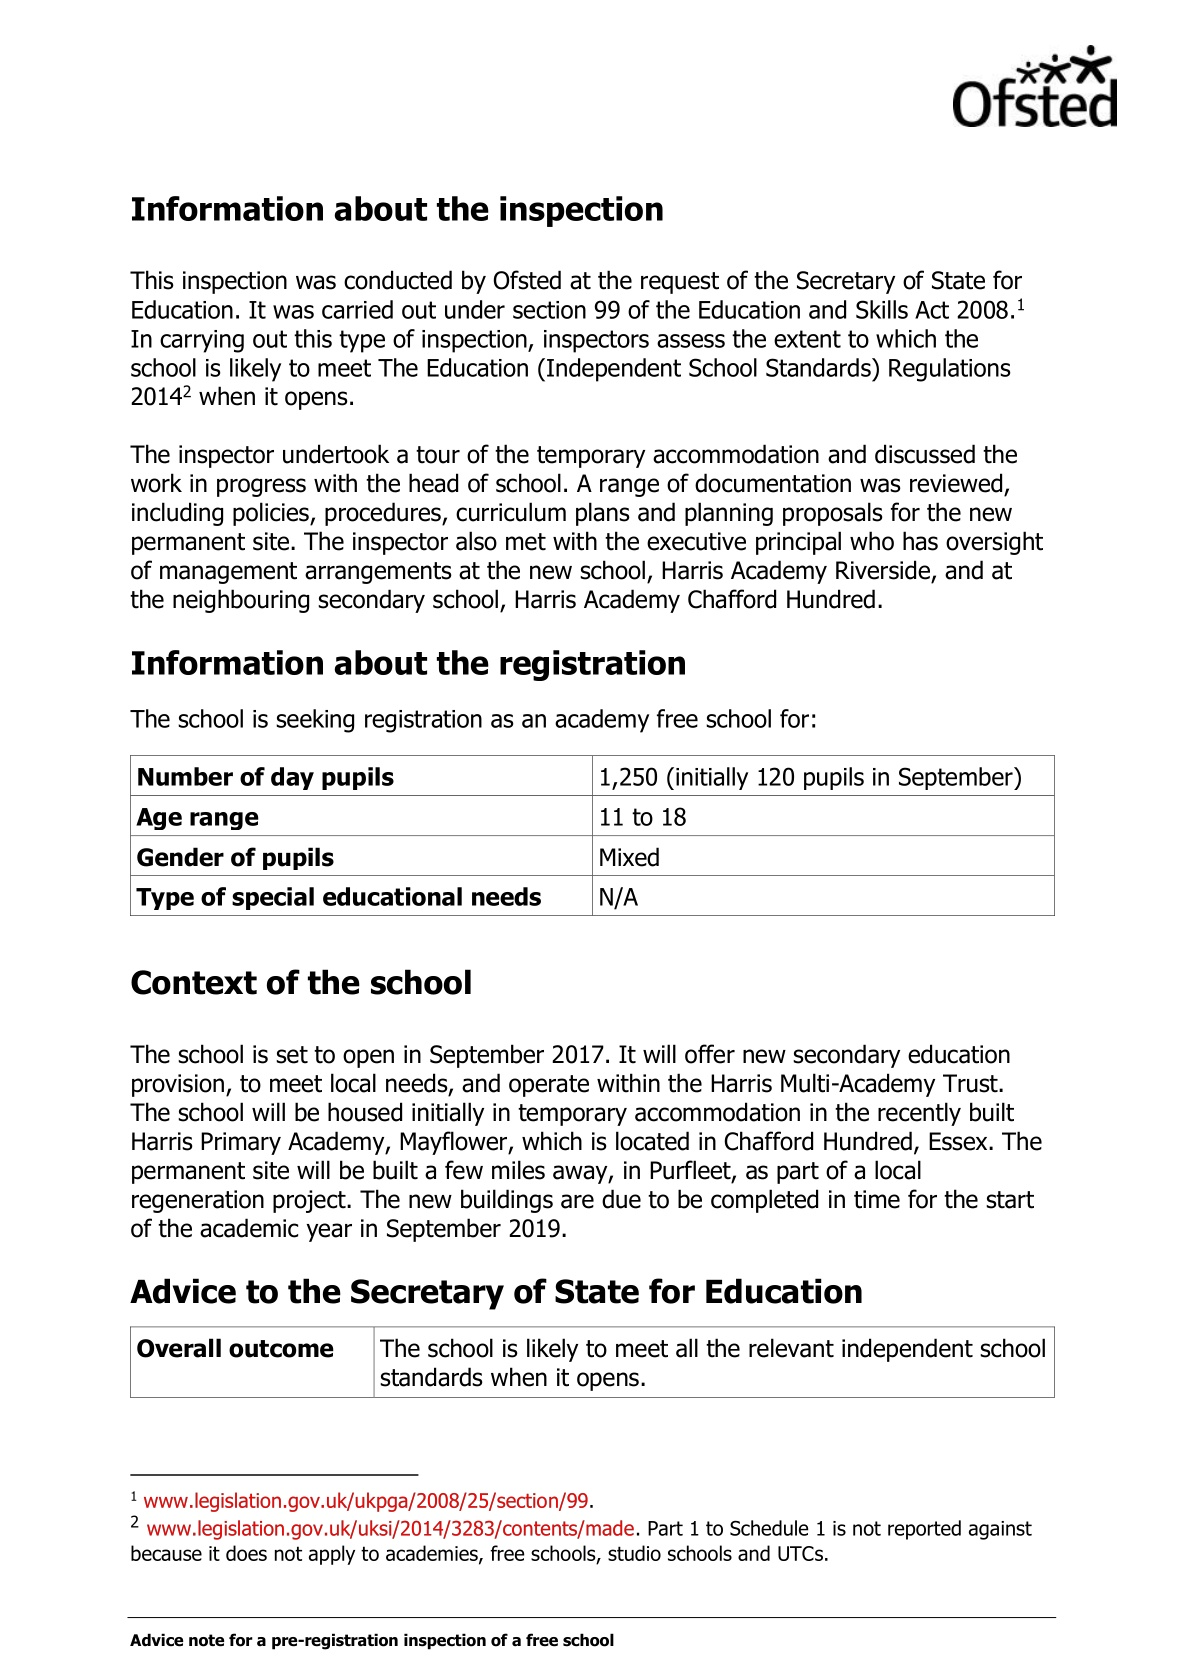full_lined: (129, 754, 1056, 918), (129, 1326, 1056, 1399)
